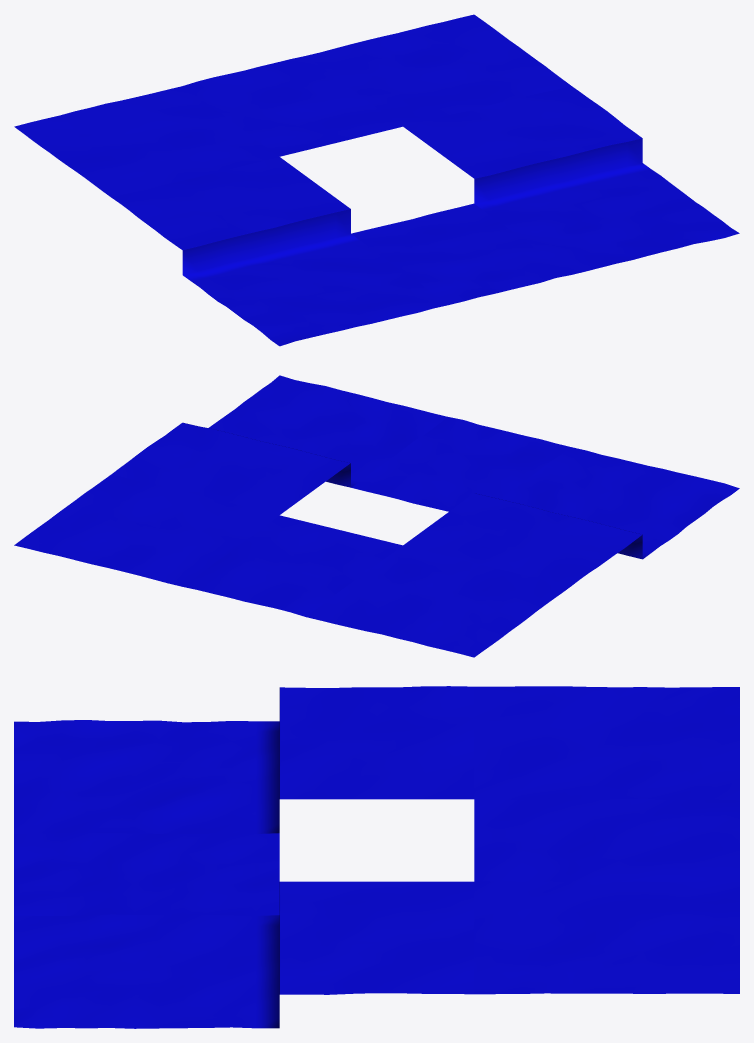
File: seafloor_far.glb
The picture shows the model from 3 angles, top to bottom: view 1: azimuth 30°, elevation 25°; view 2: azimuth 150°, elevation 25°; view 3: azimuth 270°, elevation 25°; orthographic projection. The views are drawn at different scales.
Visible parts, largest first — view 1: seafloor_far; view 2: seafloor_far; view 3: seafloor_far.
Boxes of the visible parts, x1,y1,x2,y2 form: seafloor_far: (14, 14, 739, 346); seafloor_far: (14, 375, 739, 657); seafloor_far: (14, 686, 739, 1028).
Size of what is drawn, in the model's own units: 492 by 27.43 by 492.
